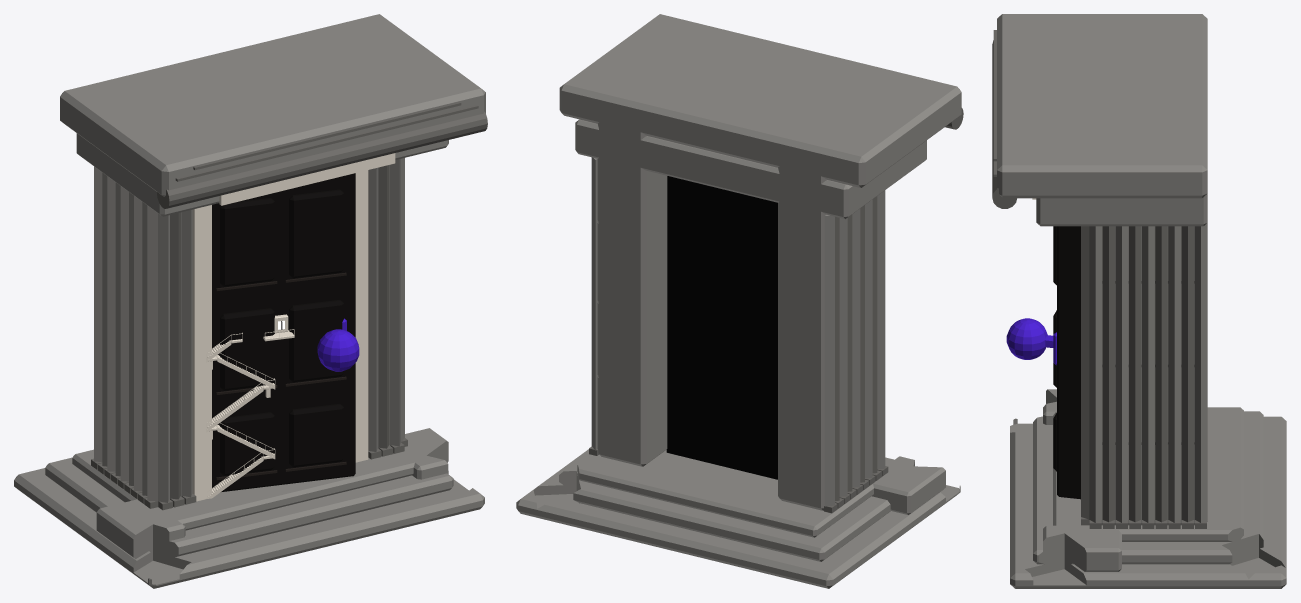
The model's file is door_watcher.glb.
The picture shows the model from 3 angles, left to right: view 1: azimuth 30°, elevation 25°; view 2: azimuth 150°, elevation 25°; view 3: azimuth 270°, elevation 25°; orthographic projection. The views are drawn at different scales.
Visible parts, largest first — view 1: door_watcher; view 2: door_watcher; view 3: door_watcher.
Part boxes in pixels (x1,y1,x2,y2): door_watcher: [14, 14, 487, 588]; door_watcher: [516, 14, 963, 588]; door_watcher: [992, 14, 1286, 588].
Size of the model in its own units: 58 by 70.5 by 44.7.
